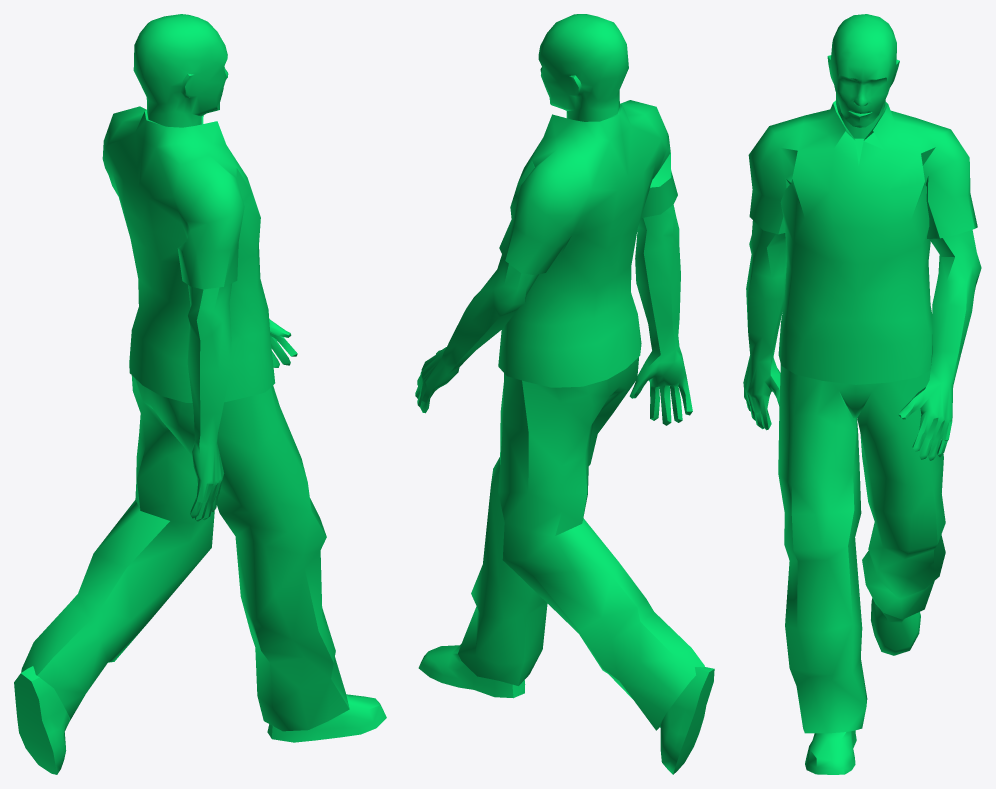
File: SM_Man_Stand_Walking02.glb
3 views of the same model, side by side, from view 1: azimuth 30°, elevation 25°; view 2: azimuth 150°, elevation 25°; view 3: azimuth 270°, elevation 25° (orthographic). The views are drawn at different scales.
Parts seen in each view (by area): view 1: SM_Man_Stand_Walking02; view 2: SM_Man_Stand_Walking02; view 3: SM_Man_Stand_Walking02.
Part boxes in pixels (x1,y1,x2,y2): SM_Man_Stand_Walking02: (14, 14, 386, 774); SM_Man_Stand_Walking02: (415, 14, 714, 774); SM_Man_Stand_Walking02: (743, 14, 981, 774).
Size of the model in its own units: 0.8417 by 1.81 by 0.5695.
